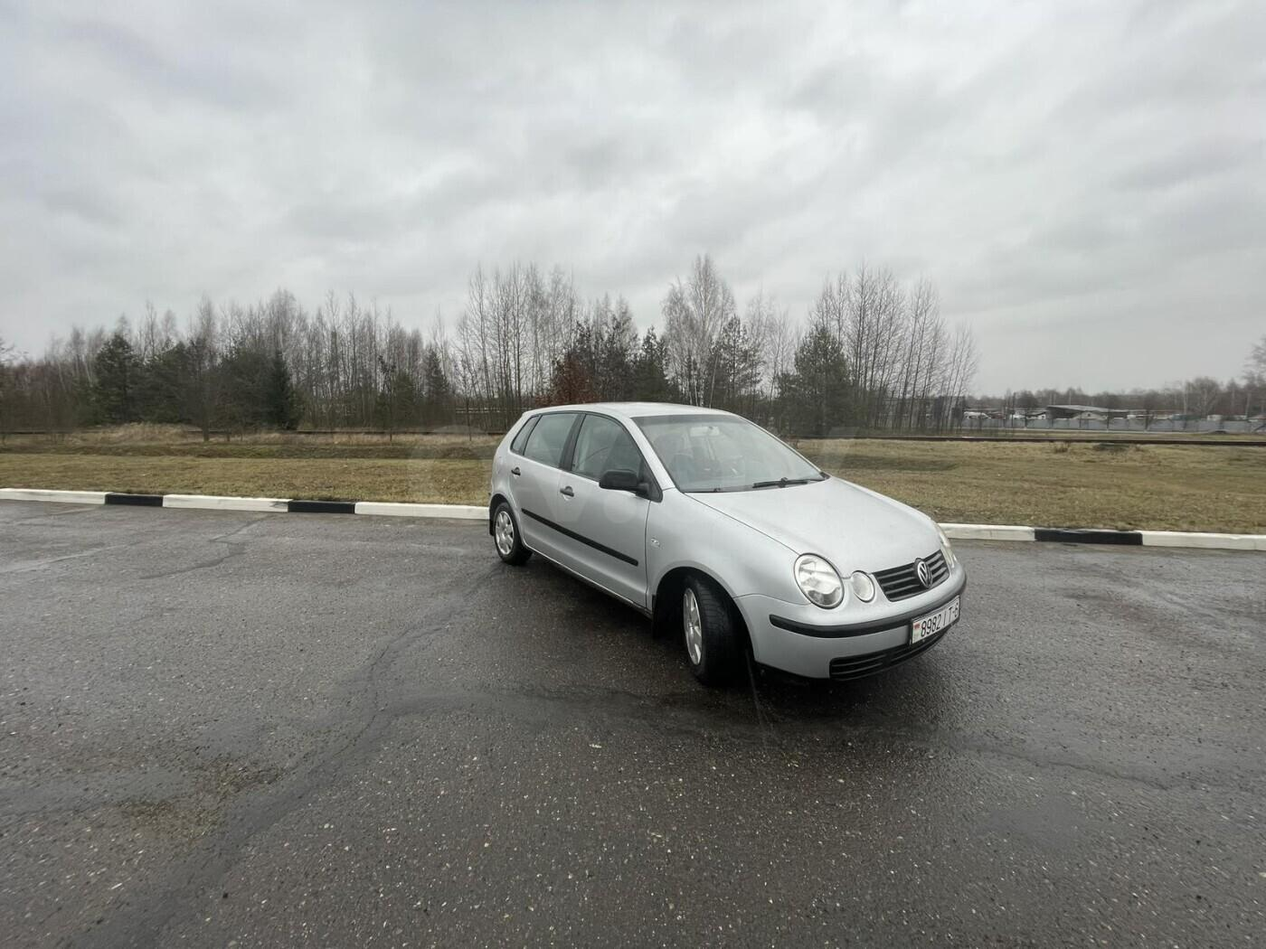Polo_2001-2005: (481, 400, 979, 718)
